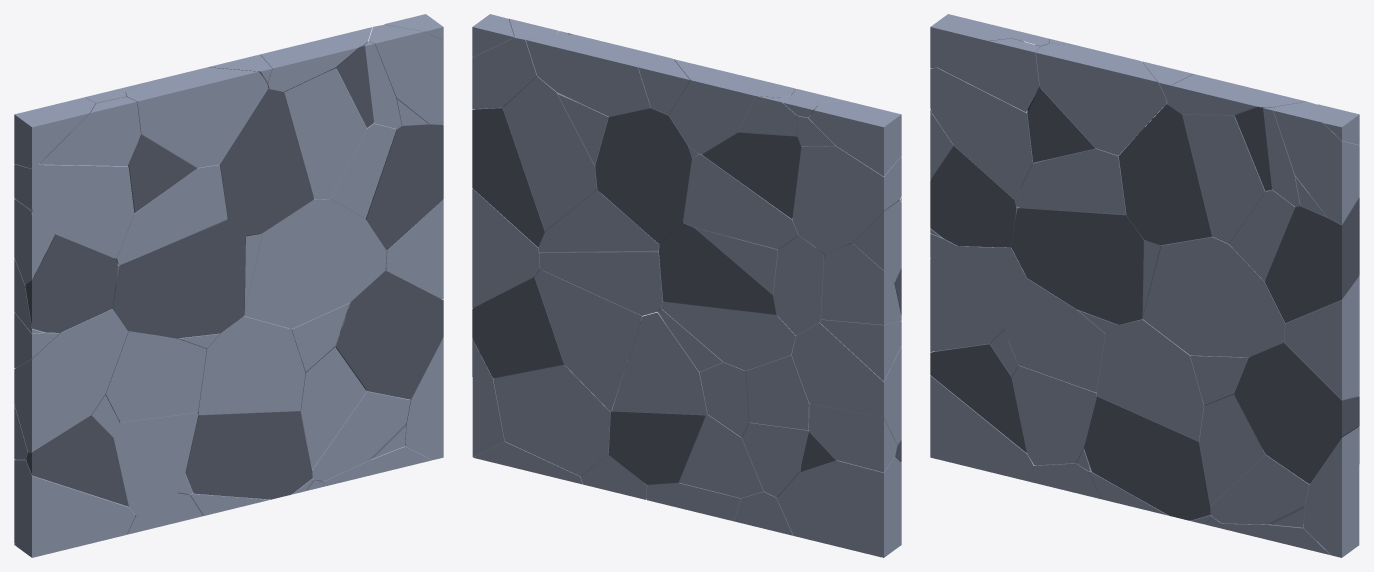
Rendered from Stone_Wall_Breakable_Unity.fbx.
3 renders of one model, left to right at view 1: azimuth 30°, elevation 25°; view 2: azimuth 150°, elevation 25°; view 3: azimuth 330°, elevation 25°, orthographic.
Parts seen in each view (by area): view 1: Plane.001_cell.070, Plane.001_cell.058, Plane.001_cell.022, Plane.001_cell.006, Plane.001_cell.018, Plane.001_cell.011, Plane.001_cell.010, Plane.001_cell.033, Plane.001_cell.039, Plane.001_cell.021, Plane.001_cell.001, Plane.001_cell.046 (+28 smaller); view 2: Plane.001_cell.010, Plane.001_cell.001, Plane.001_cell.002, Plane.001_cell.039, Plane.001_cell.044, Plane.001_cell.082, Plane.001_cell.016, Plane.001_cell.018, Plane.001_cell.058, Plane.001_cell.022, Plane.001_cell.033, Plane.001_cell.062 (+32 smaller); view 3: Plane.001_cell.070, Plane.001_cell.058, Plane.001_cell.022, Plane.001_cell.006, Plane.001_cell.011, Plane.001_cell.010, Plane.001_cell.033, Plane.001_cell.018, Plane.001_cell.046, Plane.001_cell.039, Plane.001_cell.021, Plane.001_cell.077 (+26 smaller).
Boxes of the visible parts, <box> form: Plane.001_cell.070: <box>244,197,386,328</box>; Plane.001_cell.058: <box>112,219,245,338</box>; Plane.001_cell.022: <box>335,270,443,399</box>; Plane.001_cell.006: <box>185,411,312,499</box>; Plane.001_cell.018: <box>14,309,128,452</box>; Plane.001_cell.011: <box>123,67,268,167</box>; Plane.001_cell.010: <box>220,89,313,236</box>; Plane.001_cell.033: <box>197,315,305,414</box>; Plane.001_cell.039: <box>14,164,134,258</box>; Plane.001_cell.021: <box>104,331,206,422</box>; Plane.001_cell.001: <box>14,459,135,557</box>; Plane.001_cell.046: <box>366,123,443,250</box>; Plane.001_cell.010: <box>595,108,692,244</box>; Plane.001_cell.001: <box>777,456,901,557</box>; Plane.001_cell.002: <box>493,365,615,476</box>; Plane.001_cell.039: <box>792,146,901,253</box>; Plane.001_cell.044: <box>503,76,601,230</box>; Plane.001_cell.082: <box>535,269,641,411</box>; Plane.001_cell.016: <box>526,34,660,116</box>; Plane.001_cell.018: <box>791,319,901,444</box>; Plane.001_cell.058: <box>659,223,776,315</box>; Plane.001_cell.022: <box>472,270,564,378</box>; Plane.001_cell.033: <box>612,312,707,414</box>; Plane.001_cell.062: <box>683,153,815,249</box>; Plane.001_cell.070: <box>1142,236,1285,357</box>; Plane.001_cell.058: <box>1011,207,1145,324</box>; Plane.001_cell.022: <box>1234,342,1359,483</box>; Plane.001_cell.006: <box>1084,396,1210,520</box>; Plane.001_cell.011: <box>1036,43,1166,155</box>; Plane.001_cell.010: <box>1118,103,1212,245</box>; Plane.001_cell.033: <box>1097,319,1204,441</box>; Plane.001_cell.018: <box>930,246,1026,351</box>; Plane.001_cell.046: <box>1264,194,1359,322</box>; Plane.001_cell.039: <box>930,67,1033,199</box>; Plane.001_cell.021: <box>1004,278,1105,392</box>; Plane.001_cell.077: <box>1182,115,1265,243</box>.
Bounding box in the file's own units: 200 × 200 × 14.92.
